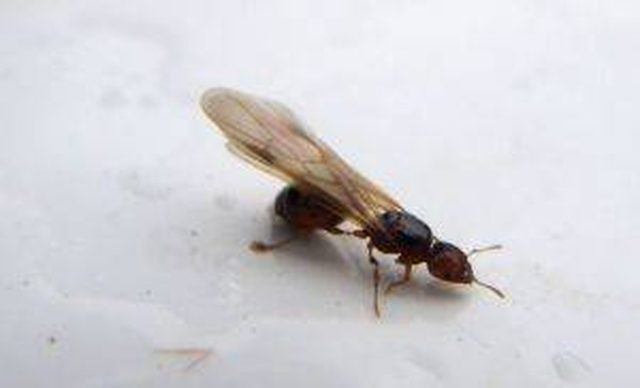flying termite: (190, 74, 533, 344)
